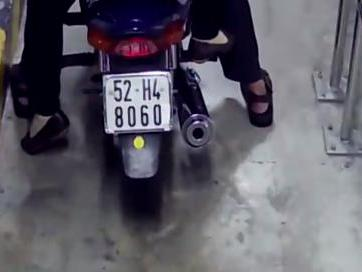num_plate: (103, 72, 174, 131)
